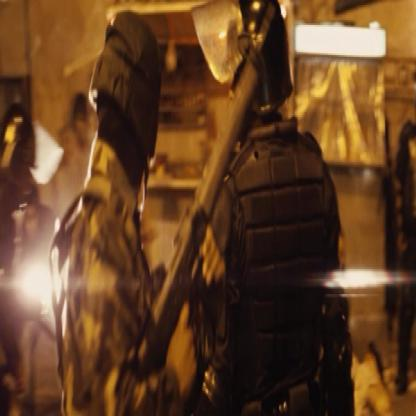Guns: (132, 3, 278, 403)
